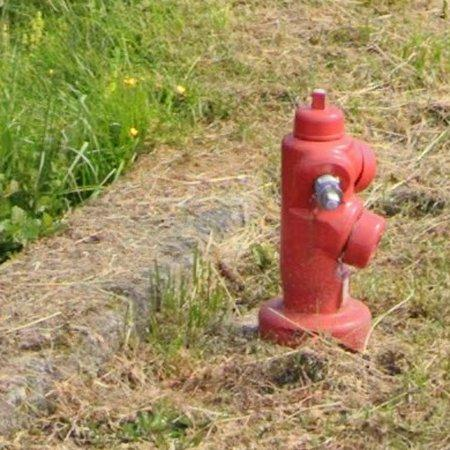a fire hydrant: (259, 90, 386, 351)
